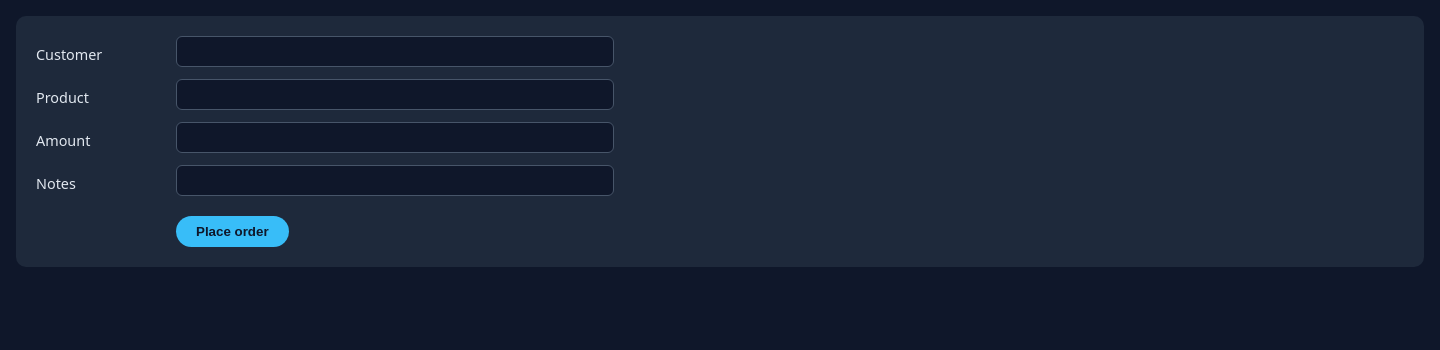
Scenario: PlaceOrderForm › clears a field error as soon as the field is corrected
Click the button "Place order": coordinates (232, 232) [176,216,289,247]
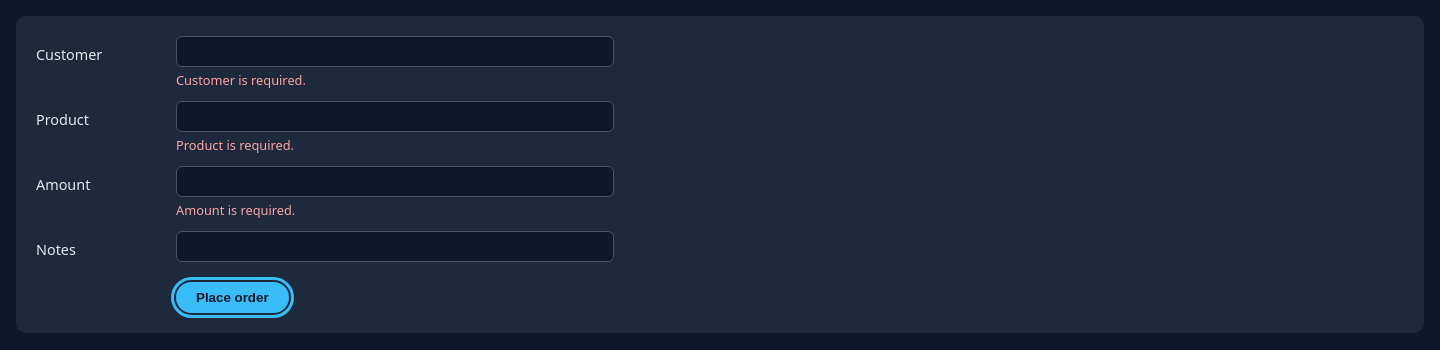
Expected: the text "Customer is required." is shown, [176,71,306,89]
In the field labelled "Customer": coordinates (395, 52) [176,36,614,67], type "Alice"
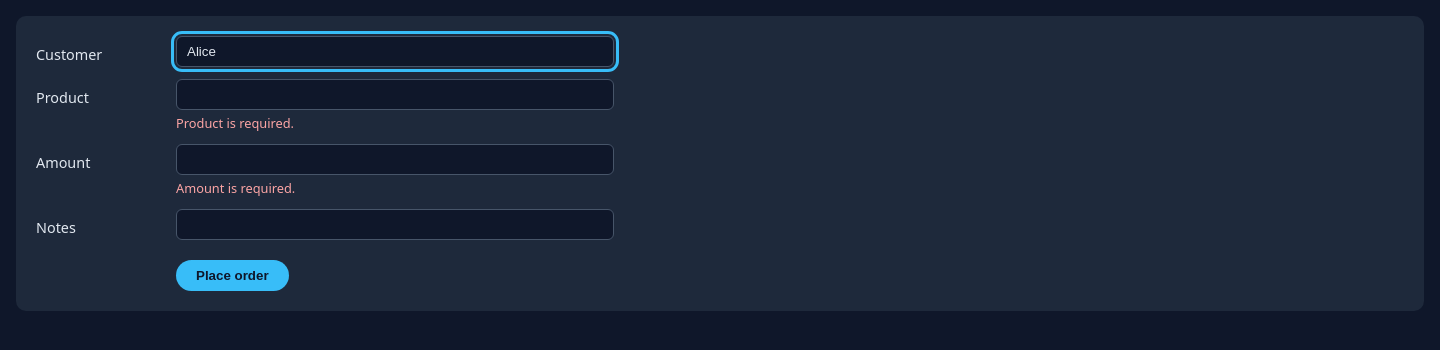
Expected: the text "Customer is required." is gone
